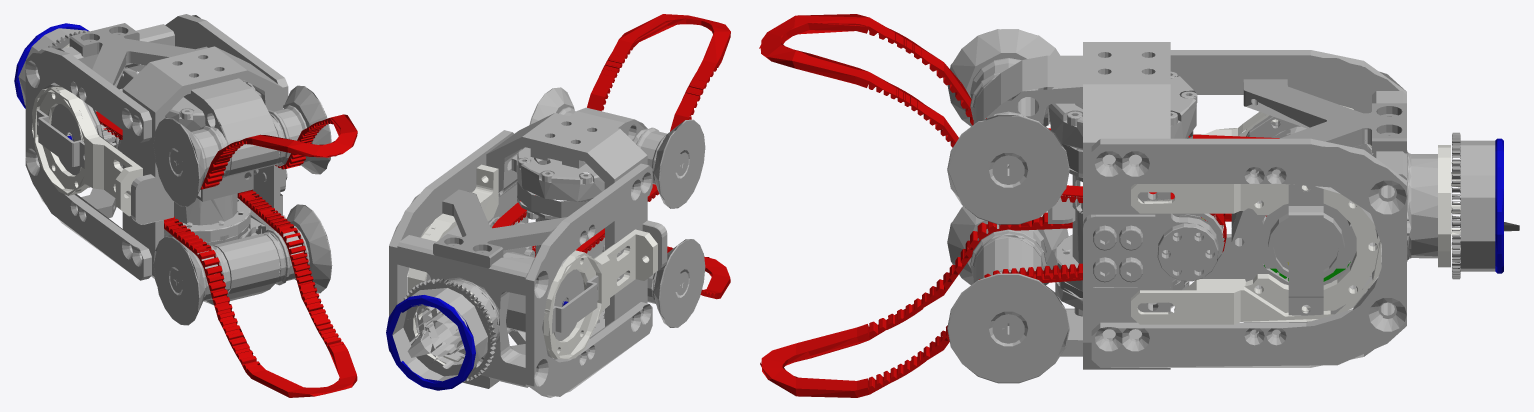
Rendered from ArmR_Elb2_joint_visu.dae.
3 renders of one model, left to right at view 1: azimuth 30°, elevation 25°; view 2: azimuth 150°, elevation 25°; view 3: azimuth 270°, elevation 25°, orthographic. The views are drawn at different scales.
Visible parts, largest first — view 1: Visualization_ARDof6; view 2: Visualization_ARDof6; view 3: Visualization_ARDof6.
Boxes of the visible parts, x1=… form: Visualization_ARDof6: x1=14, y1=14, x2=357, y2=397; Visualization_ARDof6: x1=386, y1=14, x2=730, y2=397; Visualization_ARDof6: x1=759, y1=14, x2=1519, y2=397.
Size of the model in its own units: 0.0559 by 0.1737 by 0.0847.
